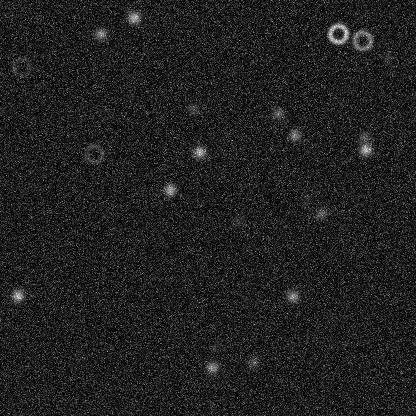Ring: (326, 21, 350, 45), (82, 141, 106, 165), (9, 54, 33, 78), (350, 28, 374, 52)
Spot: (162, 181, 178, 197), (357, 141, 373, 157), (191, 144, 207, 160), (230, 213, 246, 229), (269, 105, 285, 121), (206, 340, 222, 356), (286, 127, 302, 143), (299, 191, 315, 207), (356, 129, 372, 145), (92, 25, 108, 41), (9, 287, 25, 303), (125, 9, 141, 25), (184, 100, 200, 116), (313, 205, 329, 221), (284, 288, 300, 304), (245, 354, 261, 370), (379, 48, 395, 64), (204, 359, 220, 375)
